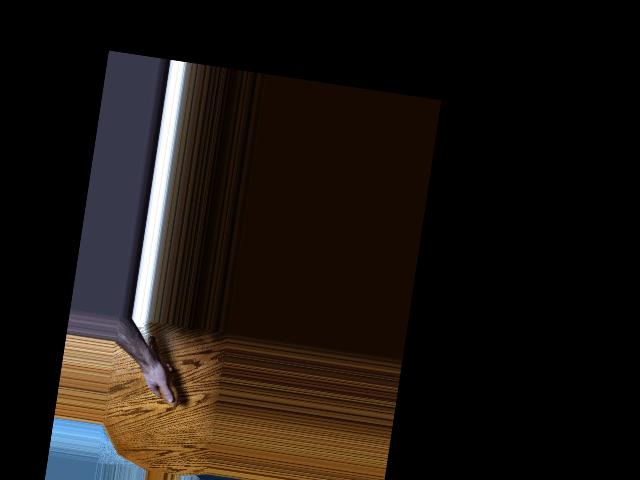sweet_potato: (137, 323, 189, 409)
